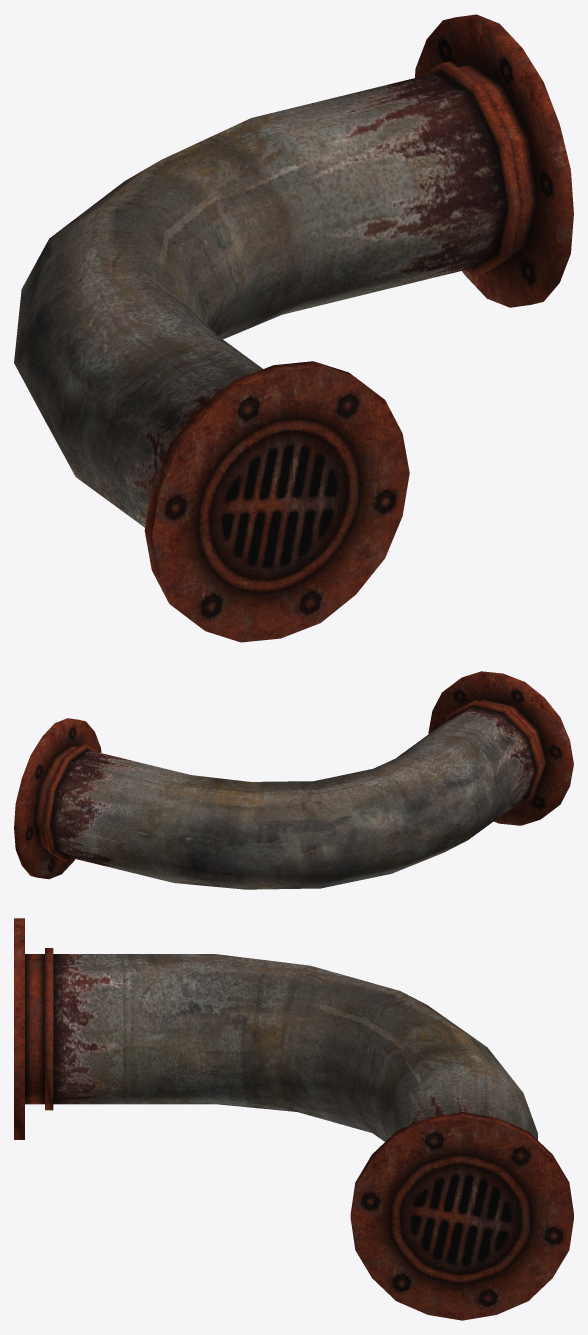
The model's file is bend.dae.
The picture shows the model from 3 angles, top to bottom: view 1: azimuth 30°, elevation 25°; view 2: azimuth 150°, elevation 25°; view 3: azimuth 270°, elevation 25°; orthographic projection. The views are drawn at different scales.
Parts seen in each view (by area): view 1: polySurface773; view 2: polySurface773; view 3: polySurface773.
Part boxes in pixels (<box>): polySurface773: <box>14,14,573,642</box>; polySurface773: <box>14,671,573,889</box>; polySurface773: <box>14,918,573,1320</box>.
Bounding box in the file's own units: 1.25 × 0.5023 × 1.25.
